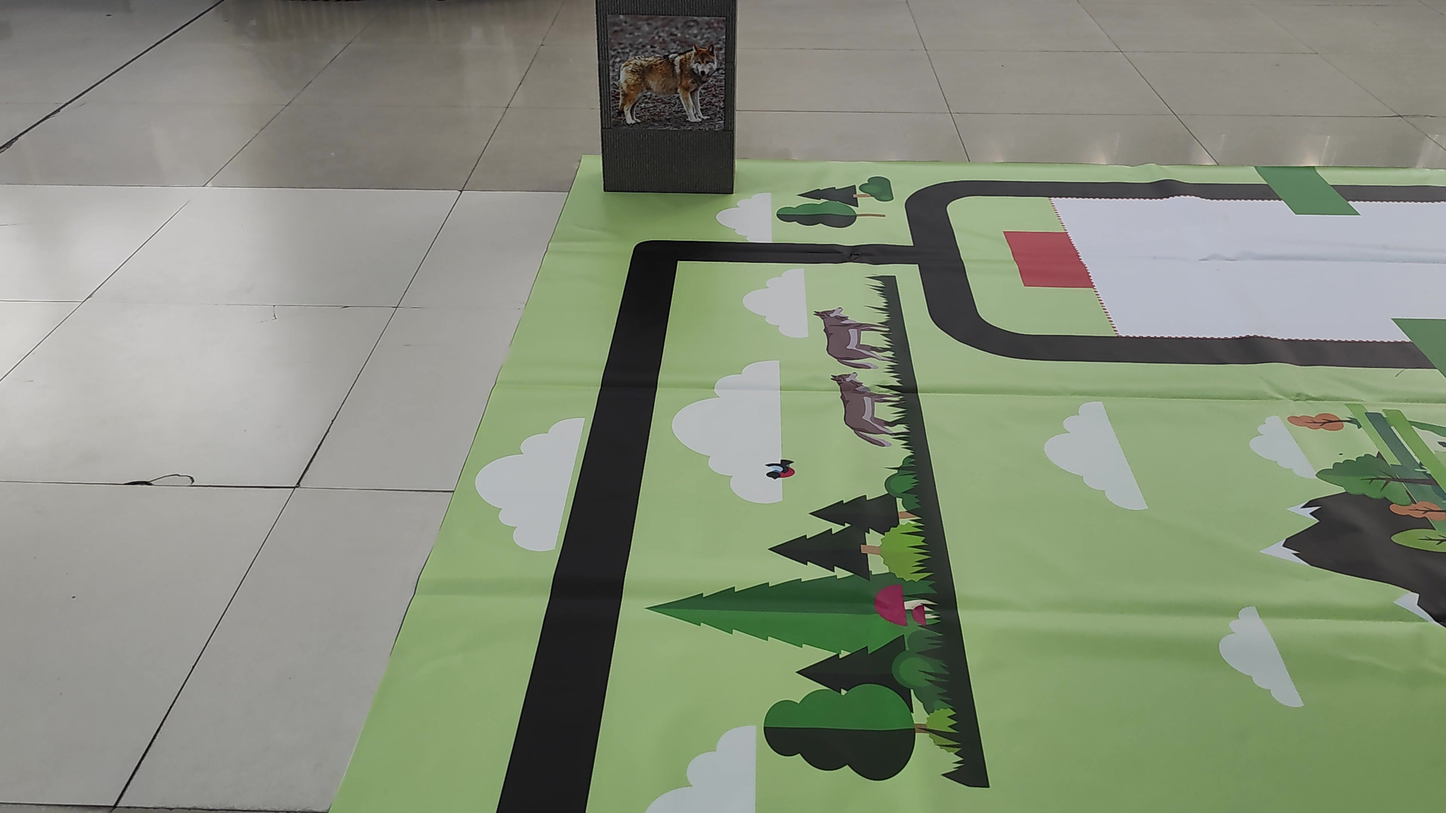wolf: (612, 23, 729, 120)
